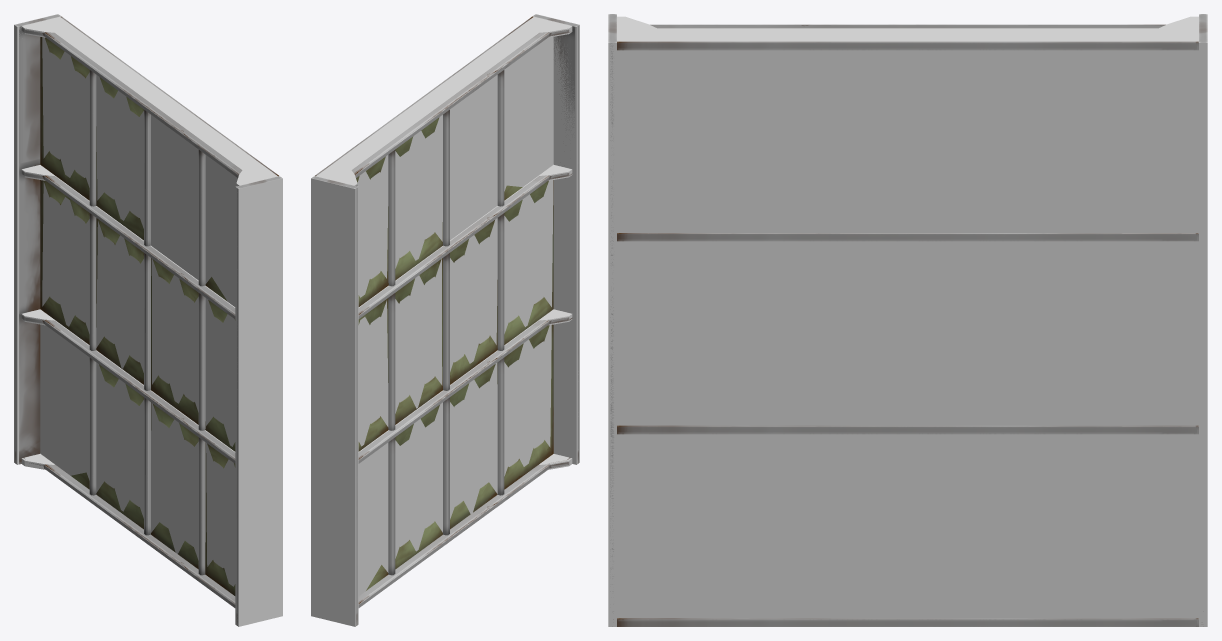
File: Hub_Wall.FBX
3 views of the same model, side by side, from view 1: azimuth 30°, elevation 25°; view 2: azimuth 150°, elevation 25°; view 3: azimuth 270°, elevation 25° (orthographic). The views are drawn at different scales.
Visible parts, largest first — view 1: HubWall_COL1, HubWall_LOD0, HubWall_COL2, HubWall_COL3, HubWall_COL12; view 2: HubWall_COL1, HubWall_LOD0, HubWall_COL3, HubWall_COL2, HubWall_COL12; view 3: HubWall_COL1, HubWall_LOD0, HubWall_COL2, HubWall_COL3.
Part boxes in pixels (left/top/right/bottom): HubWall_COL1: left=40, top=17, right=277, bottom=586; HubWall_LOD0: left=15, top=14, right=281, bottom=625; HubWall_COL2: left=235, top=176, right=282, bottom=626; HubWall_COL3: left=14, top=14, right=60, bottom=464; HubWall_COL12: left=51, top=20, right=256, bottom=173; HubWall_COL1: left=316, top=17, right=553, bottom=595; HubWall_LOD0: left=312, top=14, right=578, bottom=625; HubWall_COL3: left=311, top=176, right=358, bottom=626; HubWall_COL2: left=533, top=14, right=579, bottom=464; HubWall_COL12: left=335, top=20, right=541, bottom=175; HubWall_COL1: left=617, top=29, right=1198, bottom=618; HubWall_LOD0: left=608, top=14, right=1207, bottom=626; HubWall_COL2: left=608, top=14, right=616, bottom=626; HubWall_COL3: left=1199, top=14, right=1207, bottom=626.
Size of what is drawn, in the model's own units: 163 by 1542 by 1430.
